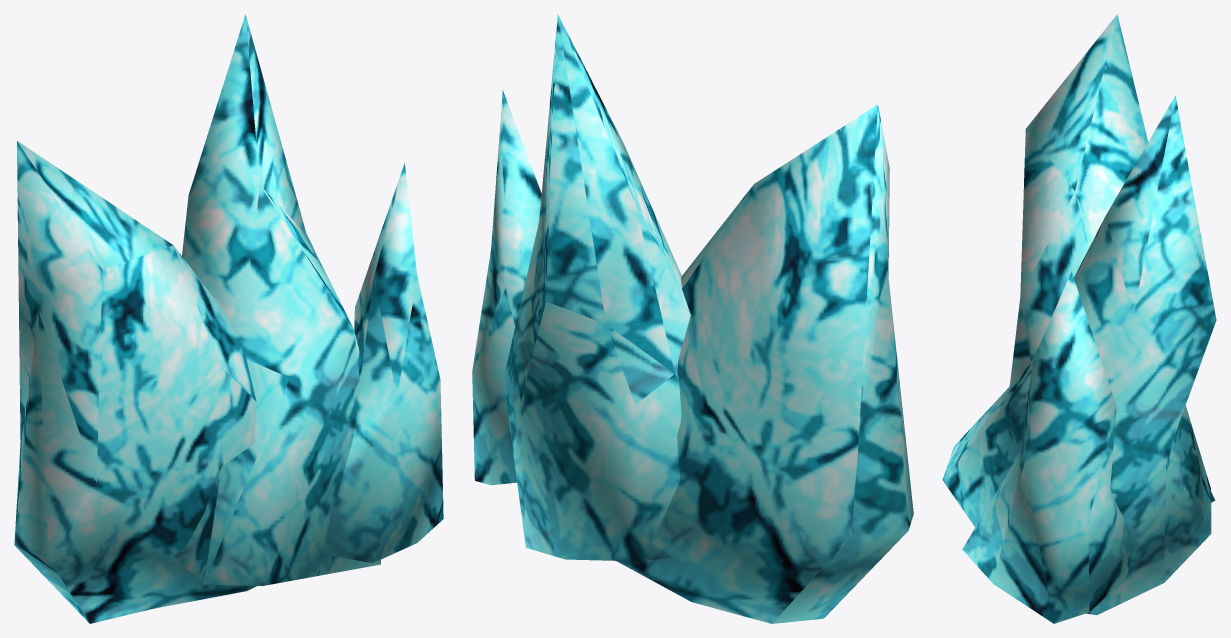
File: IceWall1.fbx
The picture shows the model from 3 angles, left to right: view 1: azimuth 30°, elevation 25°; view 2: azimuth 150°, elevation 25°; view 3: azimuth 270°, elevation 25°; orthographic projection. The views are drawn at different scales.
Visible parts, largest first — view 1: Icosphere.007; view 2: Icosphere.007; view 3: Icosphere.007.
Part boxes in pixels (<box>): Icosphere.007: <box>14,14,443,623</box>; Icosphere.007: <box>472,15,913,623</box>; Icosphere.007: <box>942,14,1216,623</box>.
Size of the model in its own units: 298 by 370 by 182.
